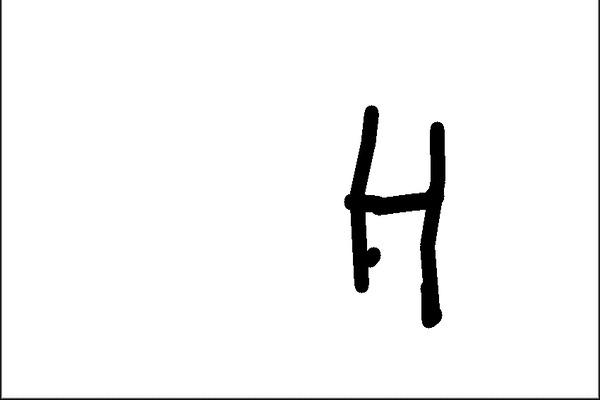H: (339, 102, 448, 334)
